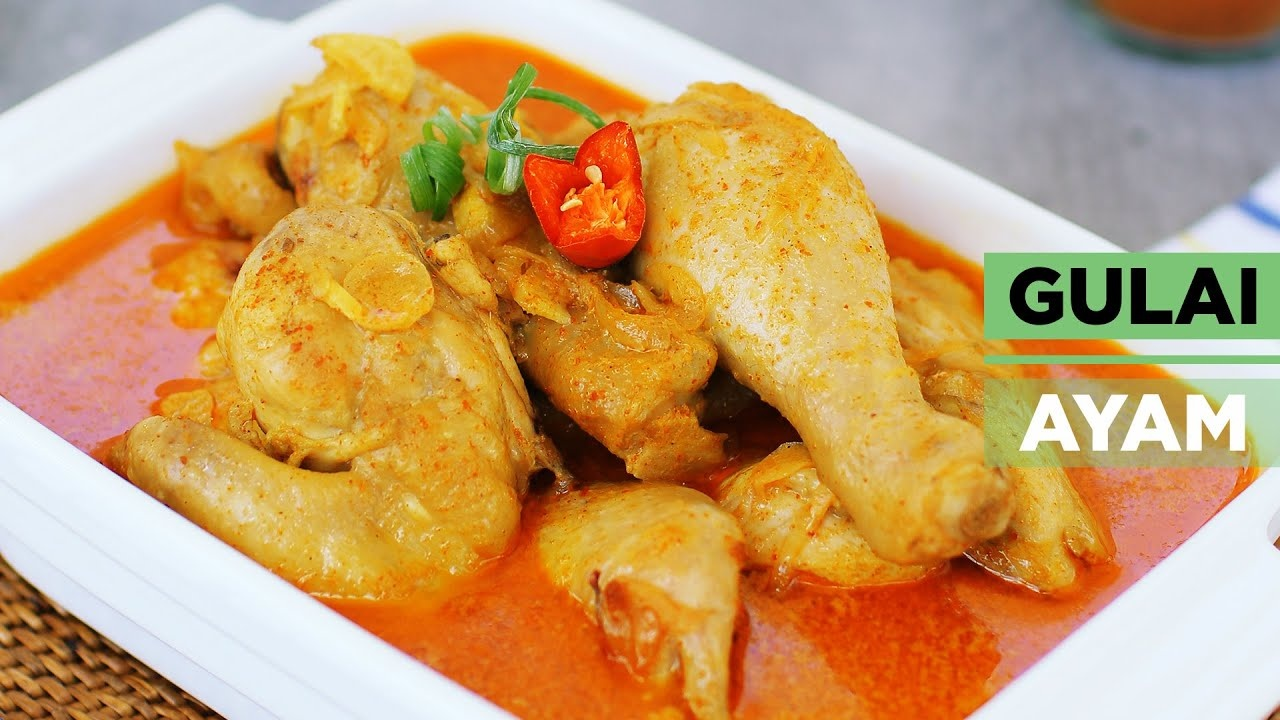gulai_ayam: (6, 52, 994, 697)
